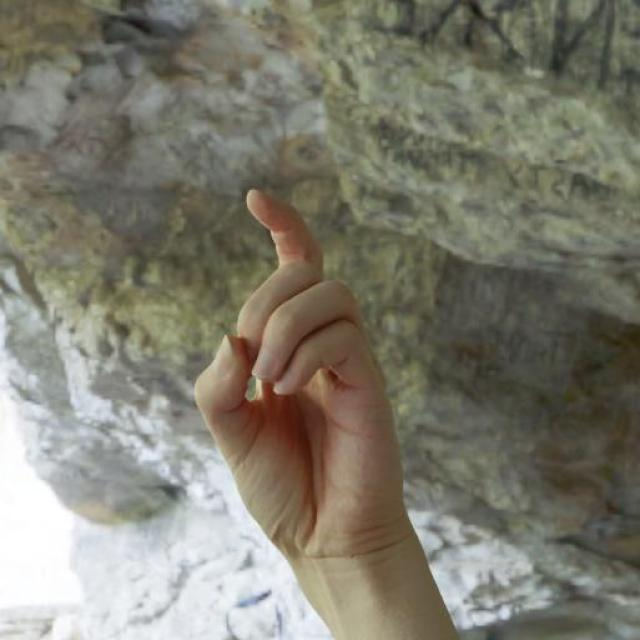X: (167, 173, 442, 602)
